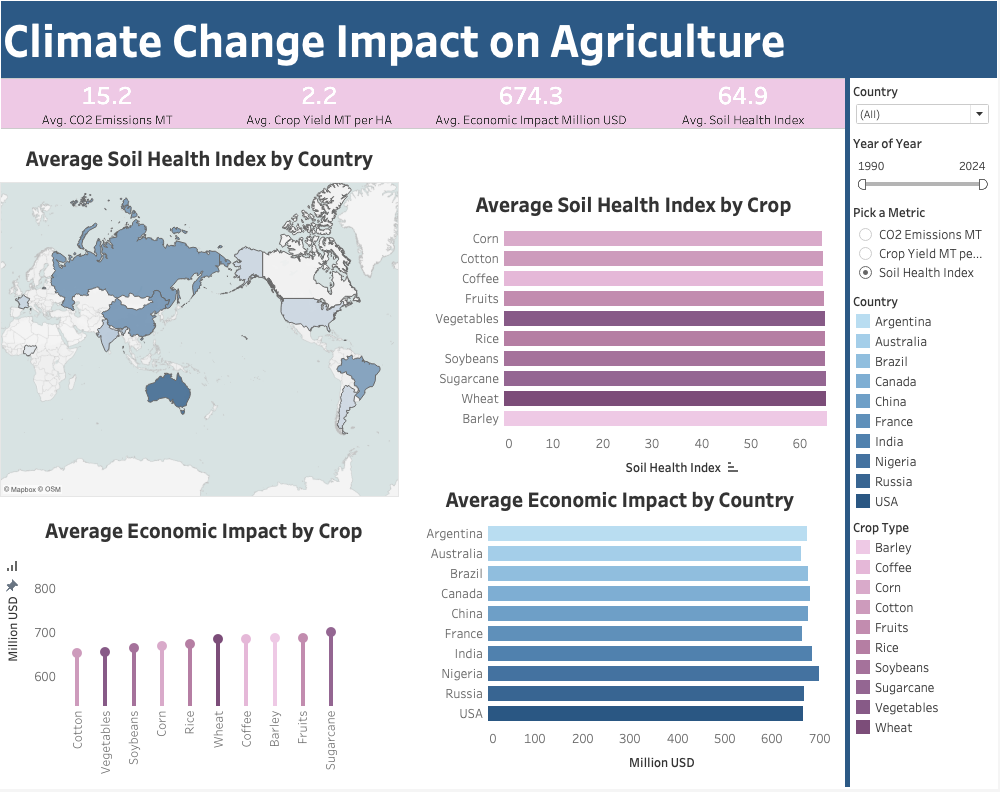

Layout of this report page (visuals, bound fields, positions):
{"tool":"tableau","page":{"name":"Dashboard 1","canvas":[1000,800],"ordinal":0},"visuals":[{"type":"text","box":[3,12,996,77]},{"type":"blank","box":[847,88,5,710]},{"type":"worksheet","title":"Sheet 5","mark":"Automatic","box":[3,89,856,71]},{"type":"filter","title":"Sheet 1","param":"[federated.1upvwoe1gpblua1e834b40m1iv24].[none:Country:nk]","box":[851,90,147,52]},{"type":"filter","title":"Sheet 1","param":"[federated.1upvwoe1gpblua1e834b40m1iv24].[yr:Year:qk]","box":[851,142,147,69]},{"type":"worksheet","title":"Sheet 1","mark":"Multipolygon","box":[2,151,399,357]},{"type":"worksheet","title":"Sheet 3","mark":"Bar","rows":["Crop_Type"],"cols":["Calculation_494340490651156481"],"box":[426,197,419,317]},{"type":"parameter","param":"[Parameters].[Parameter 1]","box":[851,211,147,89]},{"type":"legend","title":"Sheet 2","param":"[federated.1upvwoe1gpblua1e834b40m1iv24].[none:Country:nk]","box":[851,300,147,226]},{"type":"worksheet","title":"Sheet 2","mark":"Bar","rows":["Country"],"cols":["Economic_Impact_Million_USD"],"box":[410,492,428,303]},{"type":"legend","title":"Sheet 4","param":"[federated.1upvwoe1gpblua1e834b40m1iv24].[none:Crop_Type:nk]","box":[851,526,147,226]}]}

Visuals, with their boxes in screenshot pixels (x1, y1, x2, y2), scaled from the page's 1000x800 canvas onto the 1000x792 screenshot:
text: (left=3, top=12, right=999, bottom=88)
blank: (left=847, top=87, right=852, bottom=790)
"Sheet 5" worksheet: (left=3, top=88, right=859, bottom=158)
"Sheet 1" filter: (left=851, top=89, right=998, bottom=141)
"Sheet 1" filter: (left=851, top=141, right=998, bottom=209)
"Sheet 1" worksheet (Multipolygon marks): (left=2, top=149, right=401, bottom=503)
"Sheet 3" worksheet (Bar marks): (left=426, top=195, right=845, bottom=509)
parameter: (left=851, top=209, right=998, bottom=297)
"Sheet 2" legend: (left=851, top=297, right=998, bottom=521)
"Sheet 2" worksheet (Bar marks): (left=410, top=487, right=838, bottom=787)
"Sheet 4" legend: (left=851, top=521, right=998, bottom=744)
